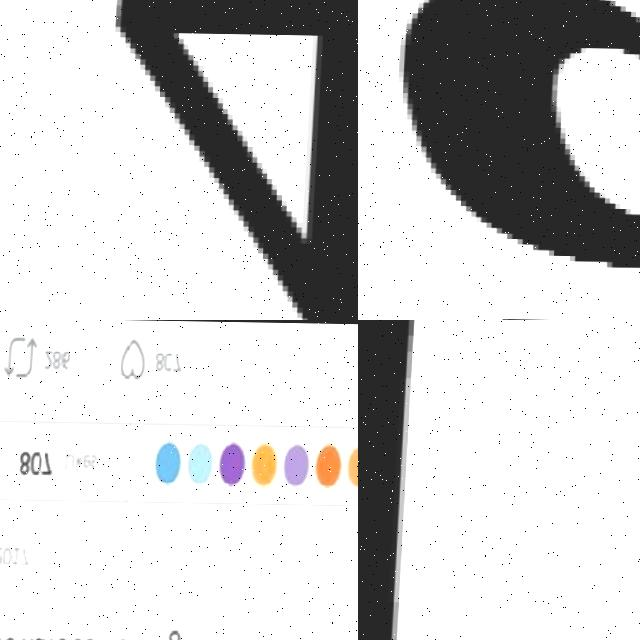0: (30, 449, 42, 474), (2, 546, 13, 566), (164, 350, 172, 370)
1: (13, 544, 21, 566)
2: (42, 349, 52, 369), (0, 545, 3, 564)
6: (61, 349, 69, 369)
7: (41, 450, 54, 474), (20, 546, 31, 564), (173, 350, 181, 370)
8: (17, 448, 32, 476), (51, 349, 61, 369), (154, 350, 164, 370)
A: (369, 0, 640, 320)
L: (358, 320, 421, 640)
